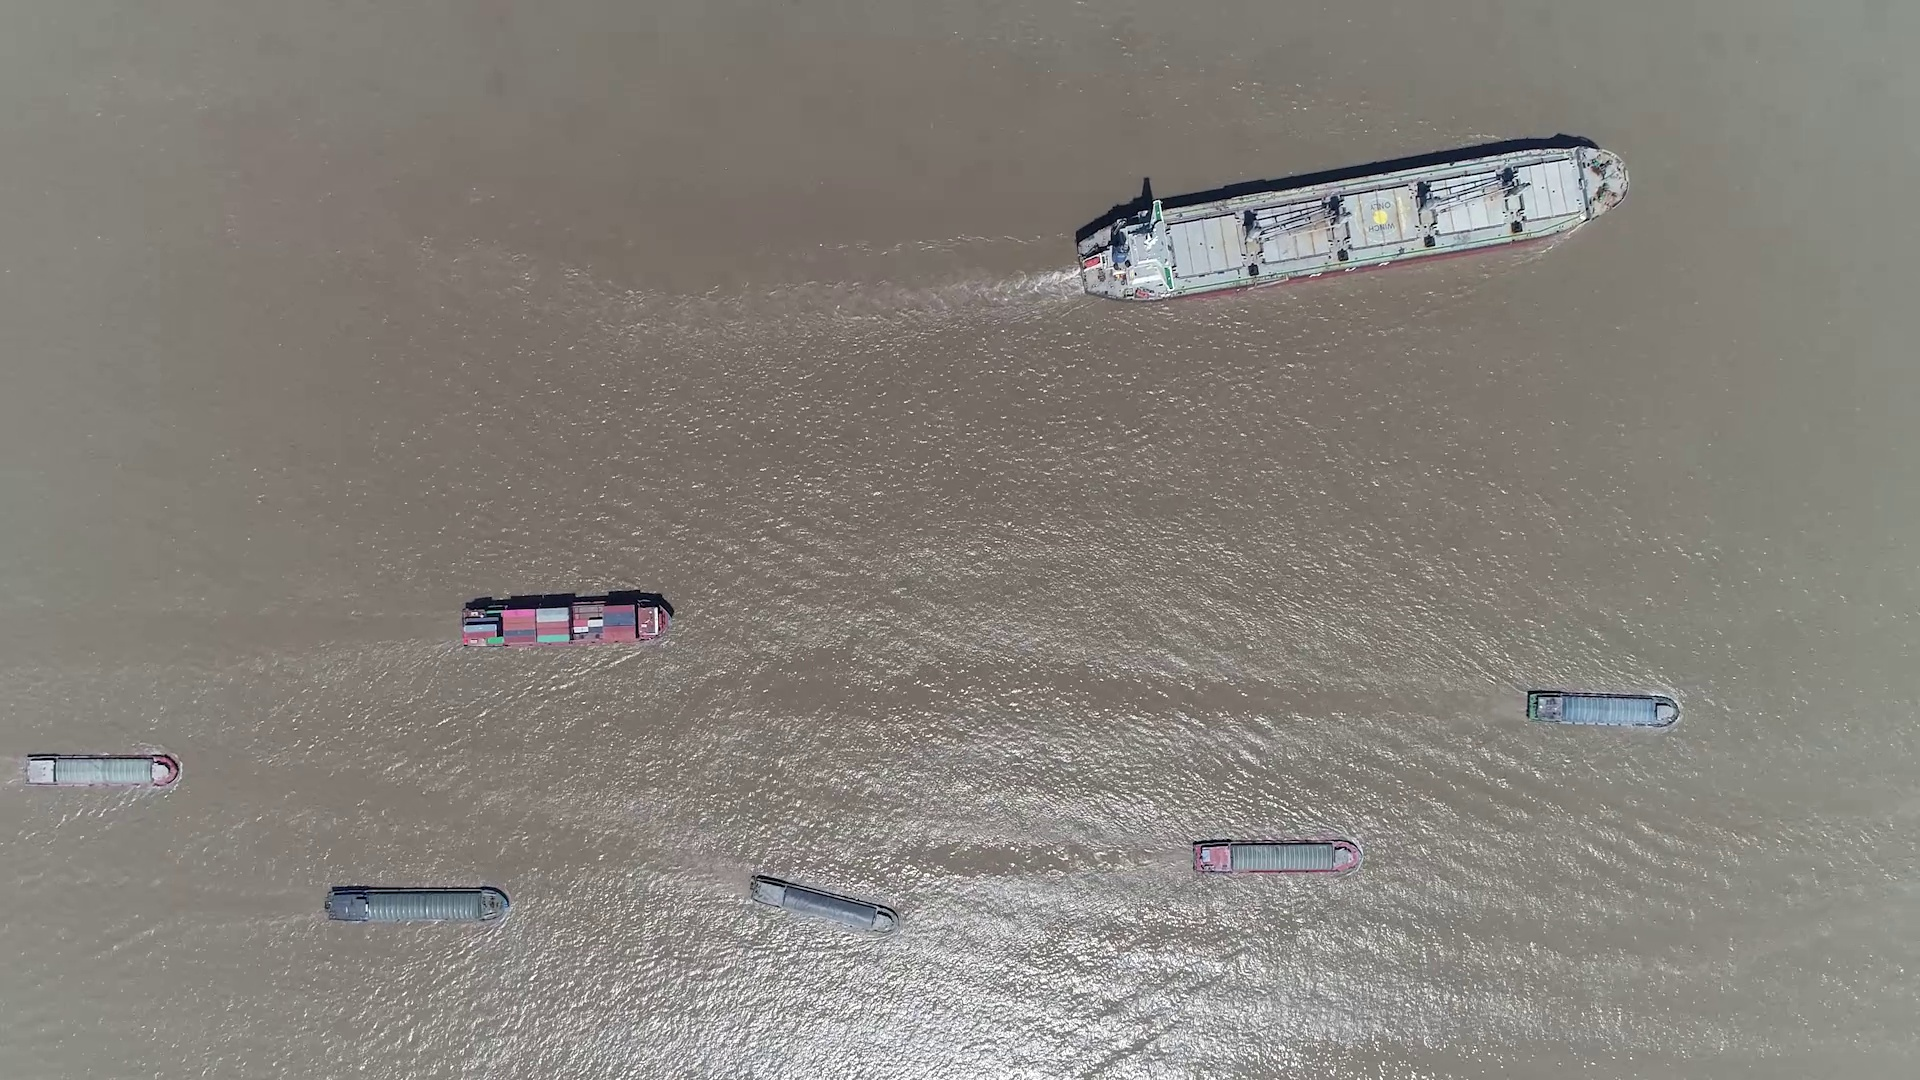ship: (1073, 146, 1629, 301), (459, 596, 673, 647), (746, 876, 899, 934), (324, 885, 508, 923), (1193, 837, 1361, 876), (1526, 688, 1680, 729), (22, 753, 179, 789)
